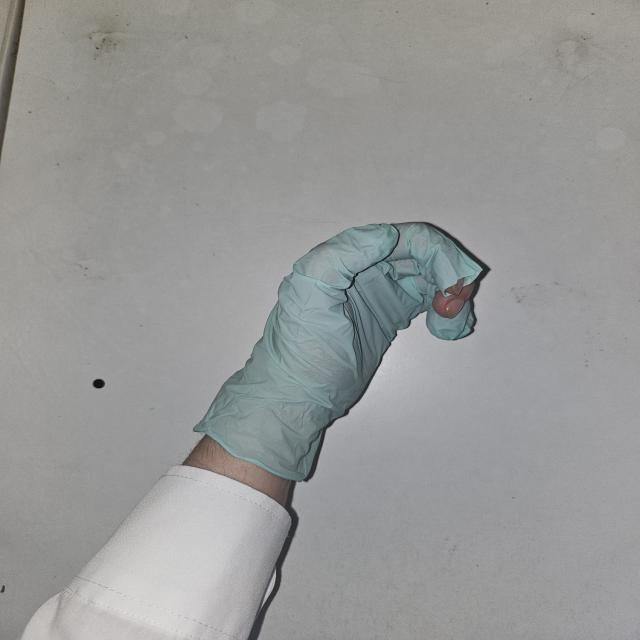gloves_damaged: (190, 218, 490, 484)
